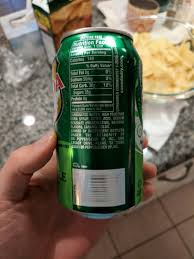Lata: (49, 25, 147, 223)
